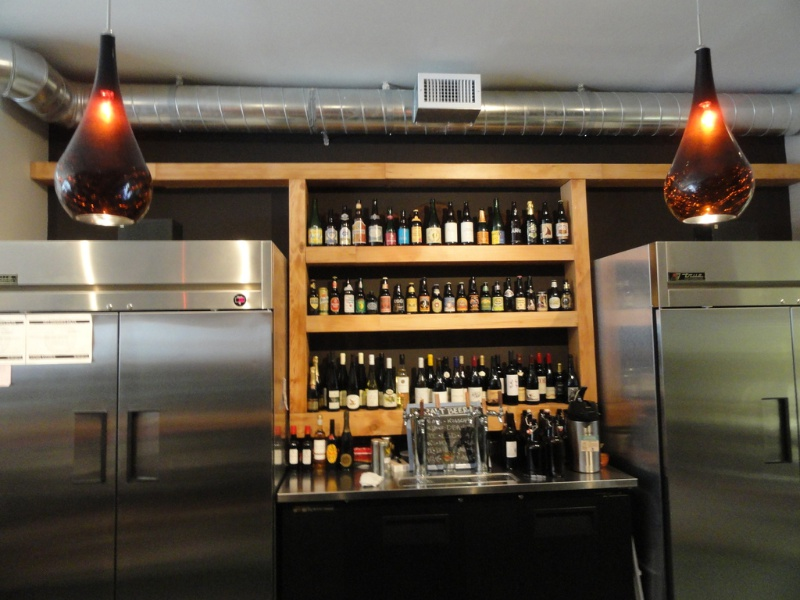wine: (301, 171, 588, 410), (281, 402, 623, 488)
